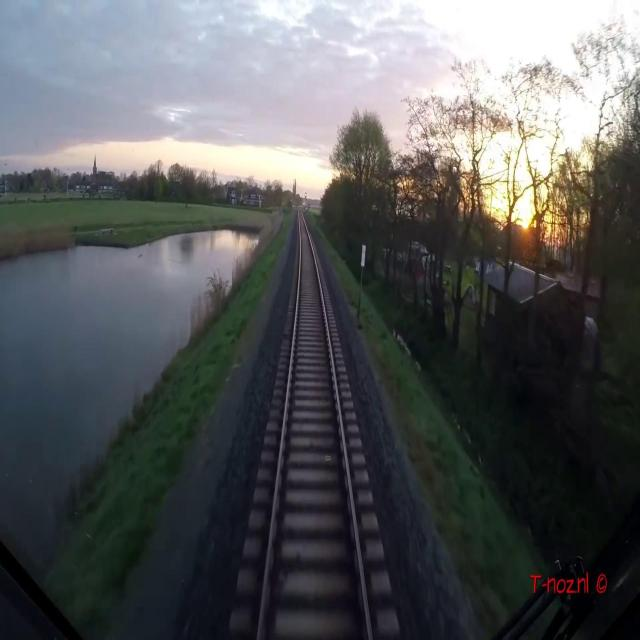rail-track: (260, 209, 368, 639)
